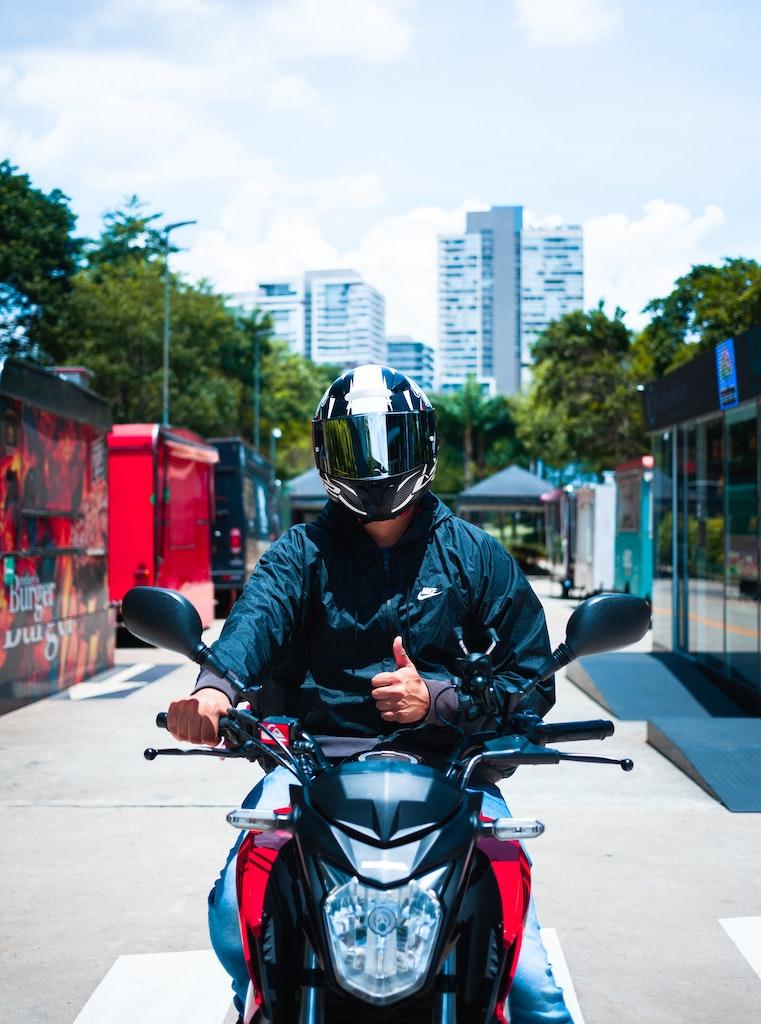helmet: (310, 363, 443, 526)
